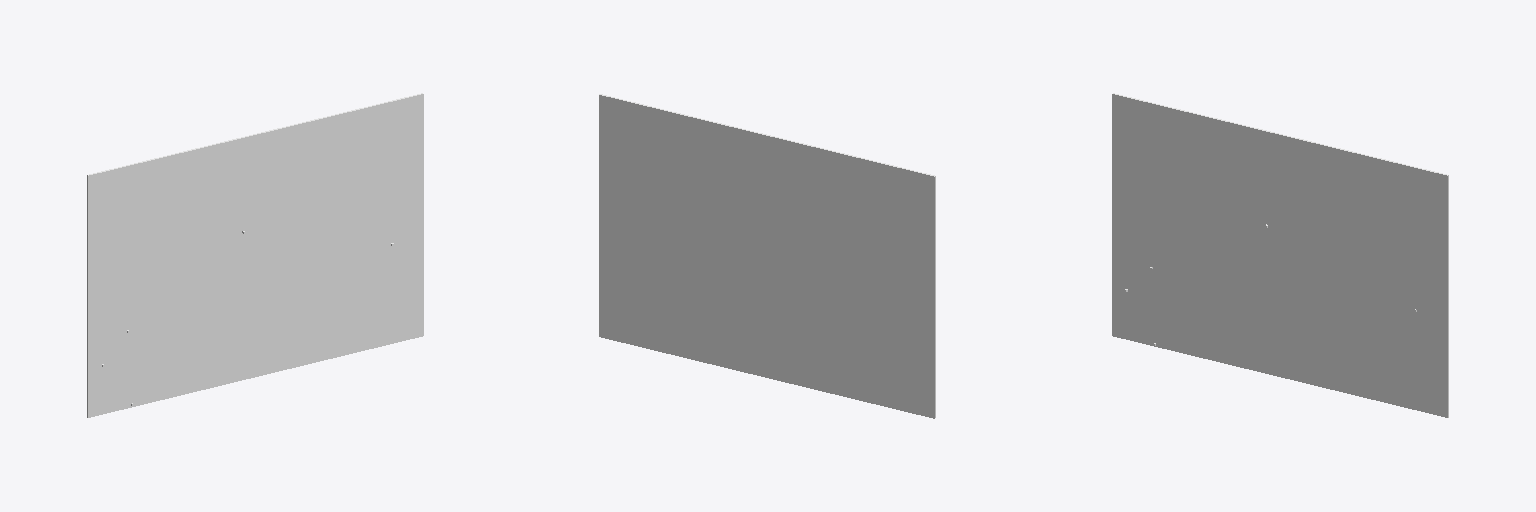
Rendered from QuadroMiranha.obj.
3 views of the same model, side by side, from view 1: azimuth 30°, elevation 25°; view 2: azimuth 150°, elevation 25°; view 3: azimuth 330°, elevation 25° (orthographic).
Parts seen in each view (by area): view 1: object 1; view 2: object 1; view 3: object 1.
Part boxes in pixels (x1,y1,x2,y2): object 1: (87,93,423,417); object 1: (599,94,935,418); object 1: (1112,93,1448,417).
Bounding box in the file's own units: 17.4 × 12 × 0.2.